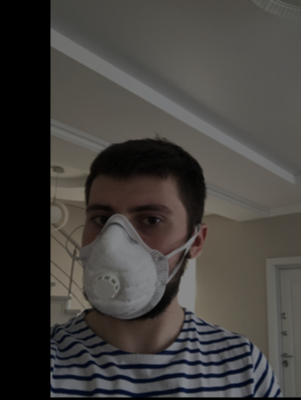with_mask: (79, 195, 185, 321)
